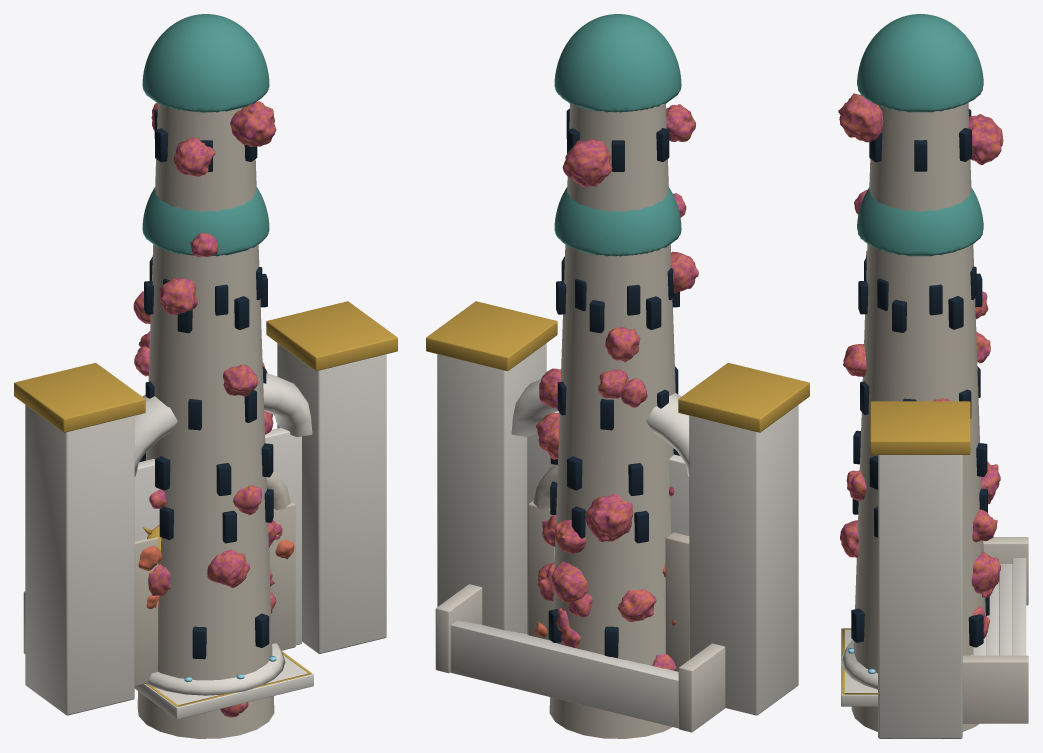
The model's file is citadel.glb.
3 views of the same model, side by side, from view 1: azimuth 30°, elevation 25°; view 2: azimuth 150°, elevation 25°; view 3: azimuth 270°, elevation 25° (orthographic).
Visible parts, largest first — view 1: citadelgate, coraltower1, coraltower0, brokenarch0, slab, altar; view 2: citadelgate, coraltower1, grandstairs, coraltower0, brokenarch0; view 3: coraltower1, citadelgate, coraltower0, grandstairs, slab, altar.
Boxes of the visible parts, x1,y1,x2,y2 form: citadelgate: (14,301,397,715); coraltower1: (134,14,276,738); coraltower0: (133,187,282,717); brokenarch0: (134,472,295,686); slab: (134,651,313,719); altar: (147,643,285,695); citadelgate: (426,301,809,715); coraltower1: (536,14,698,738); grandstairs: (435,584,725,732); coraltower0: (537,187,681,670); brokenarch0: (528,464,689,671); coraltower1: (838,14,1003,731); citadelgate: (870,401,970,738); coraltower0: (840,187,994,646); grandstairs: (962,537,1028,723); slab: (841,628,877,706); altar: (841,640,877,689).
Bounding box in the file's own units: 14.6 × 28.8 × 7.21.
